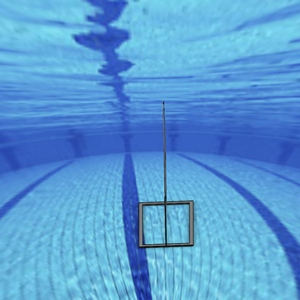circle: (136, 97, 195, 247)
